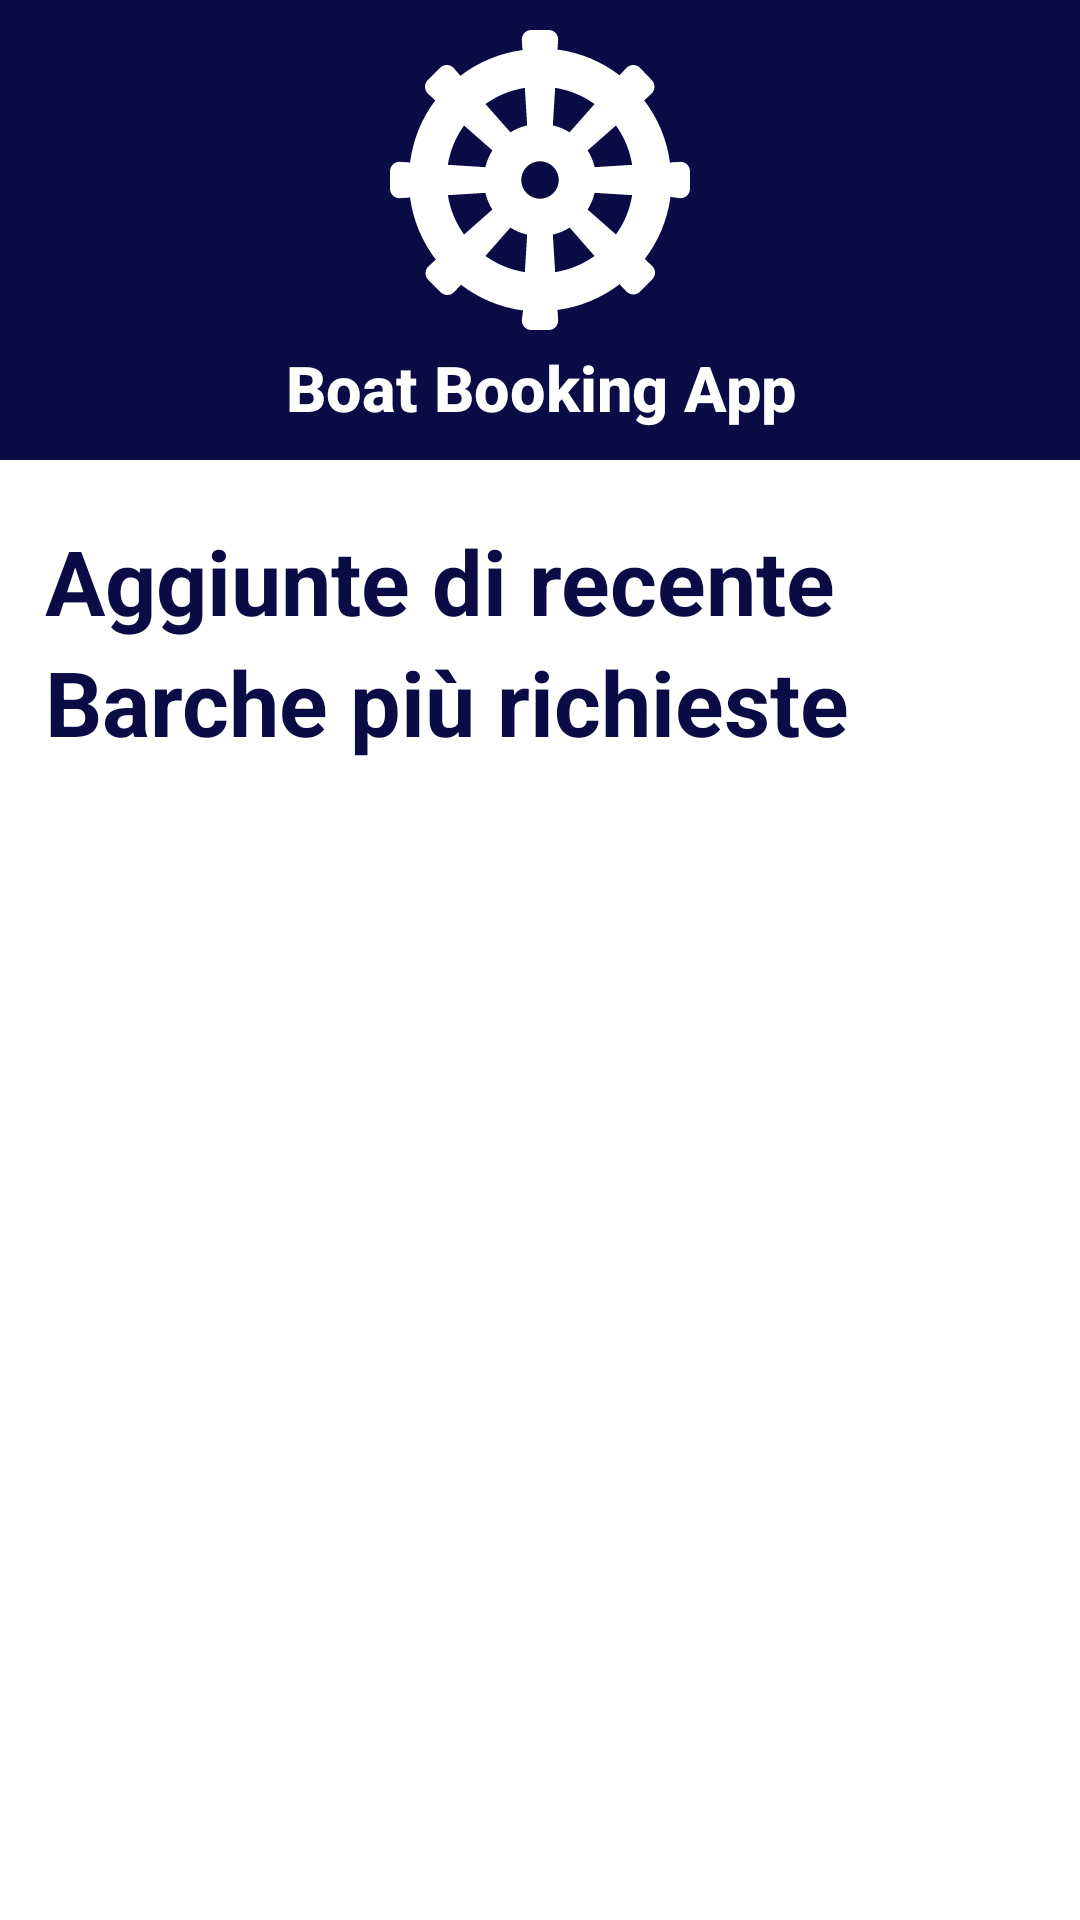

Named icons in this screenshot (1080px×1920px) and their bounding boxes, (x1, y1, x2, y2):
rudder: (390, 30, 690, 330)
